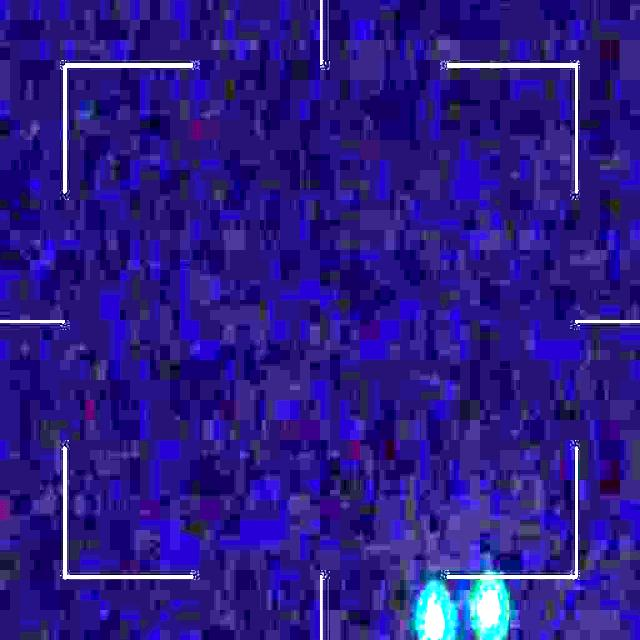bird: (418, 585, 516, 640)
